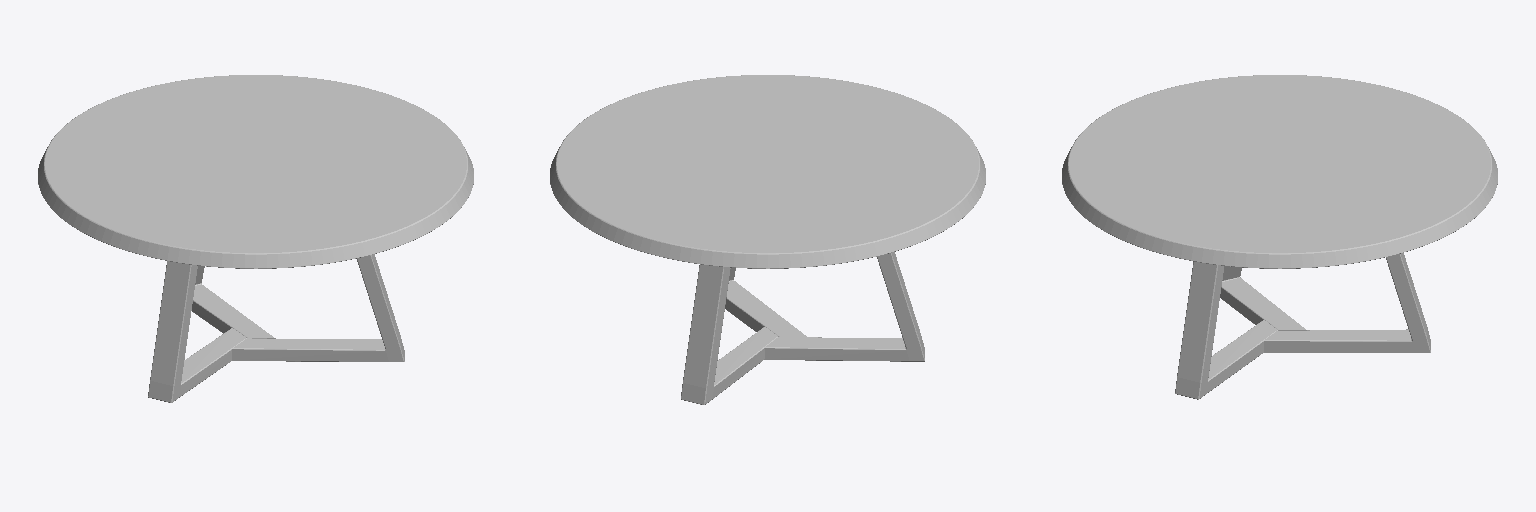
Rendered from diningtable.obj.
3 renders of one model, left to right at view 1: azimuth 30°, elevation 25°; view 2: azimuth 150°, elevation 25°; view 3: azimuth 270°, elevation 25°, orthographic.
Parts seen in each view (by area): view 1: diningtable:Mesh; view 2: diningtable:Mesh; view 3: diningtable:Mesh.
Part boxes in pixels (left/top/right/bottom): diningtable:Mesh: left=38, top=75, right=473, bottom=402; diningtable:Mesh: left=550, top=75, right=985, bottom=404; diningtable:Mesh: left=1062, top=75, right=1497, bottom=399.
Size of the model in its own units: 155 by 71.91 by 155.